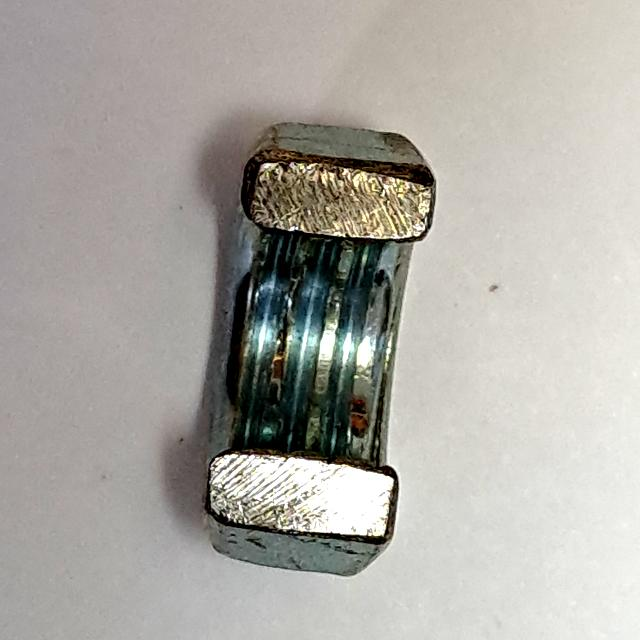Side-Fracture: (188, 113, 446, 590)
